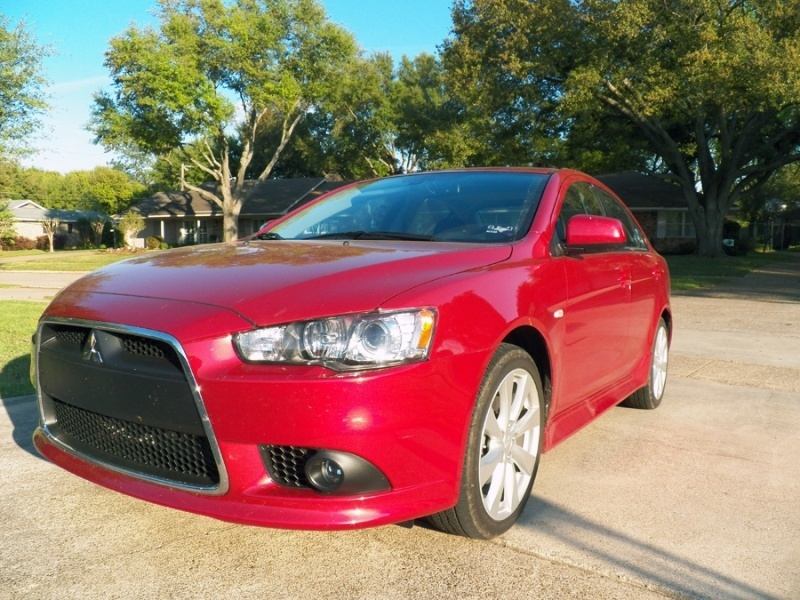normalcar: (30, 119, 676, 547)
